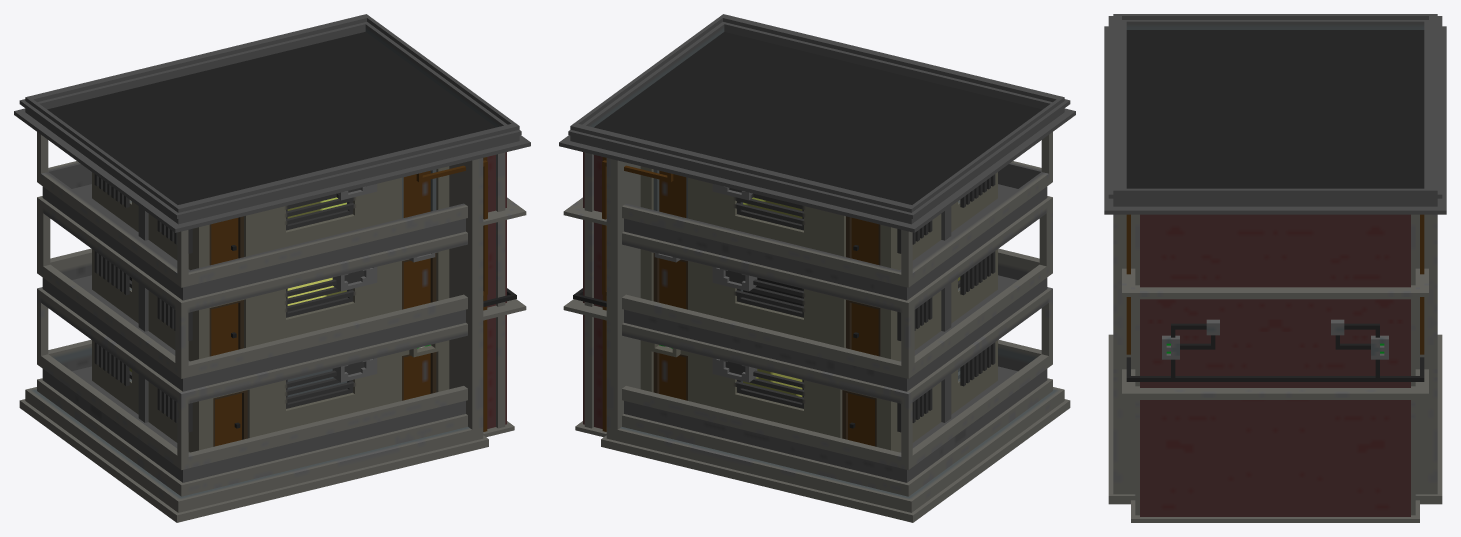
Rendered from residential_07.fbx.
The picture shows the model from 3 angles, left to right: view 1: azimuth 30°, elevation 25°; view 2: azimuth 150°, elevation 25°; view 3: azimuth 270°, elevation 25°; orthographic projection. The views are drawn at different scales.
Visible parts, largest first — view 1: officeBuilding_2; view 2: officeBuilding_2; view 3: officeBuilding_2.
Part boxes in pixels (box(x1,y1,x2,y2)): officeBuilding_2: box(14, 14, 530, 522); officeBuilding_2: box(559, 14, 1075, 522); officeBuilding_2: box(1104, 14, 1446, 522).
Bounding box in the file's own units: 99 × 82 × 77.
1 material, 1 textured.
